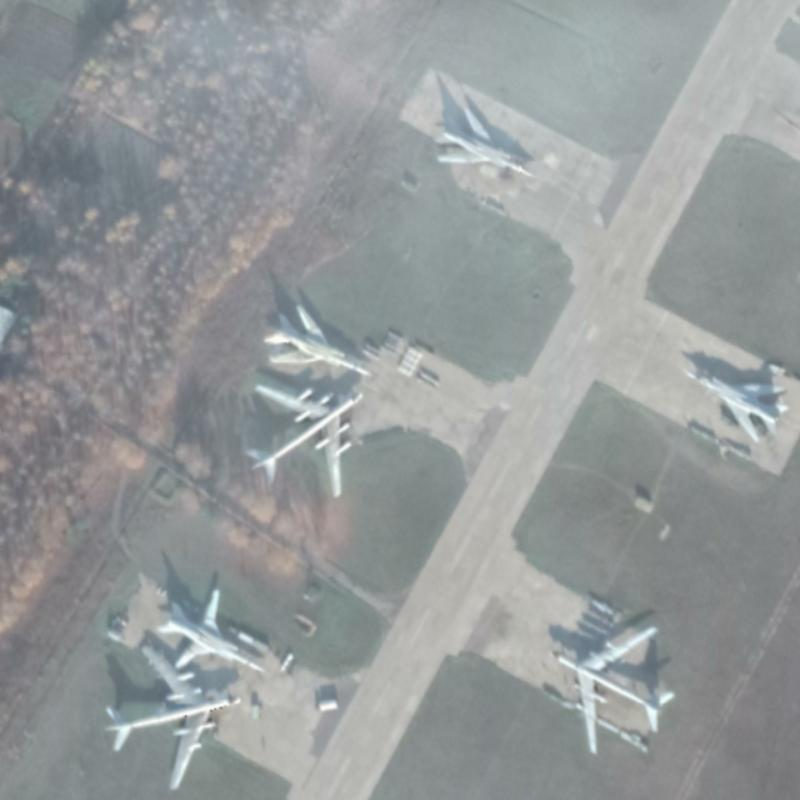A12: (153, 585, 268, 674), (260, 301, 375, 378), (682, 367, 791, 443), (431, 105, 537, 179)
A17: (100, 641, 243, 792), (550, 622, 678, 756), (242, 381, 364, 500)
